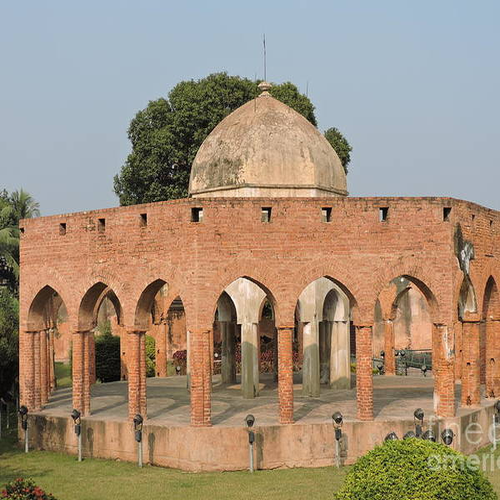Temple: (13, 63, 495, 466)
